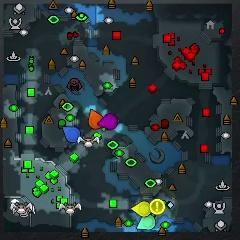Other: (150, 199, 166, 215)
p1: (63, 126, 81, 143)
p2: (136, 215, 155, 229)
p3: (97, 114, 120, 130)
p4: (132, 202, 152, 217)
p5: (89, 110, 103, 129)
